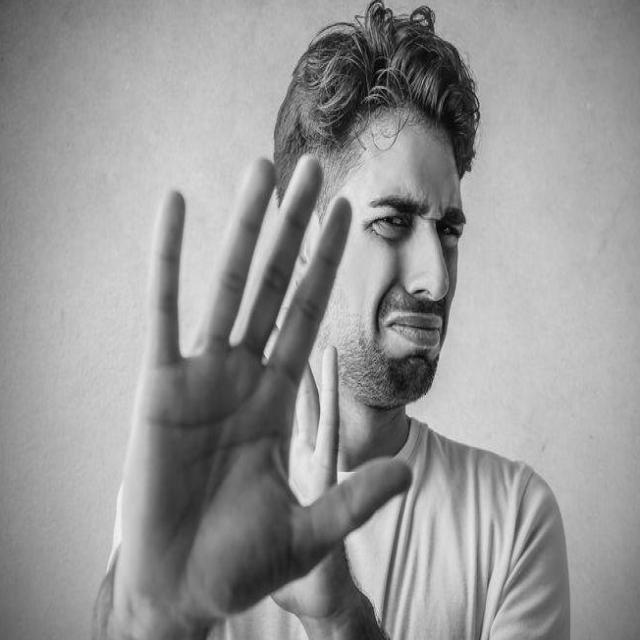stop: (115, 150, 416, 626)
